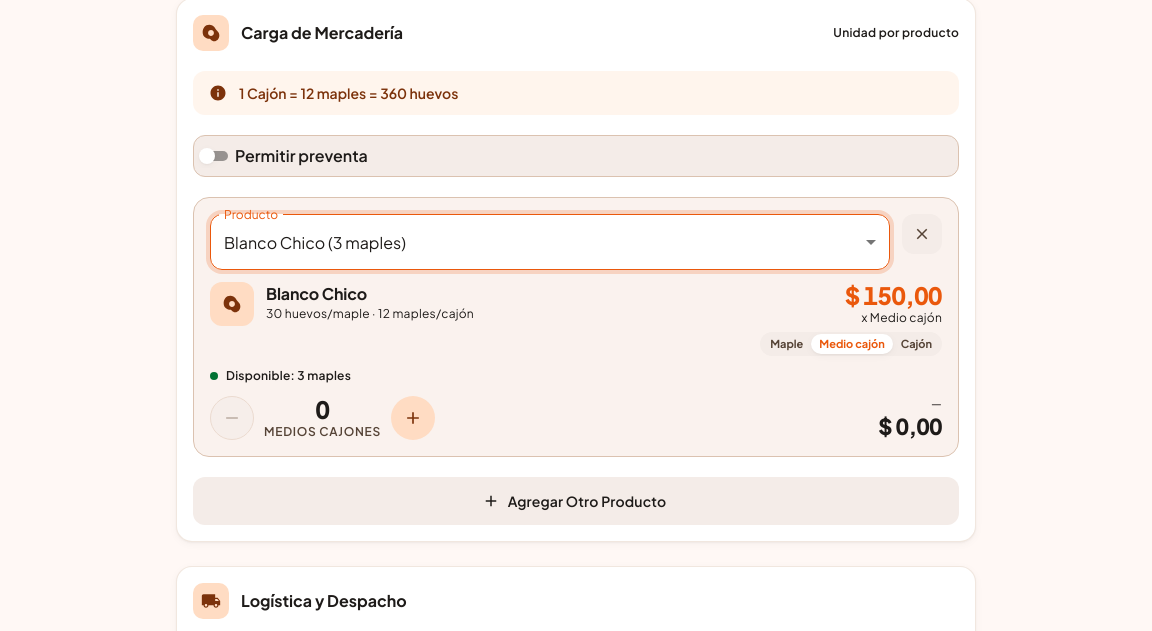
Test: NewOrderPage — medio cajón unit › requires 6 maples of stock and blocks when the warehouse has less
The width and height of the screenshot is (1152, 631).
Earlier steps of the test are not shown.
(page scrolled)
Expected: the text "Disponible: 3 maples" is shown, top-left (226, 368), bottom-right (351, 384)
Click the button named "Aumentar cantidad": [413, 418] box top-left (391, 396), bottom-right (435, 440)
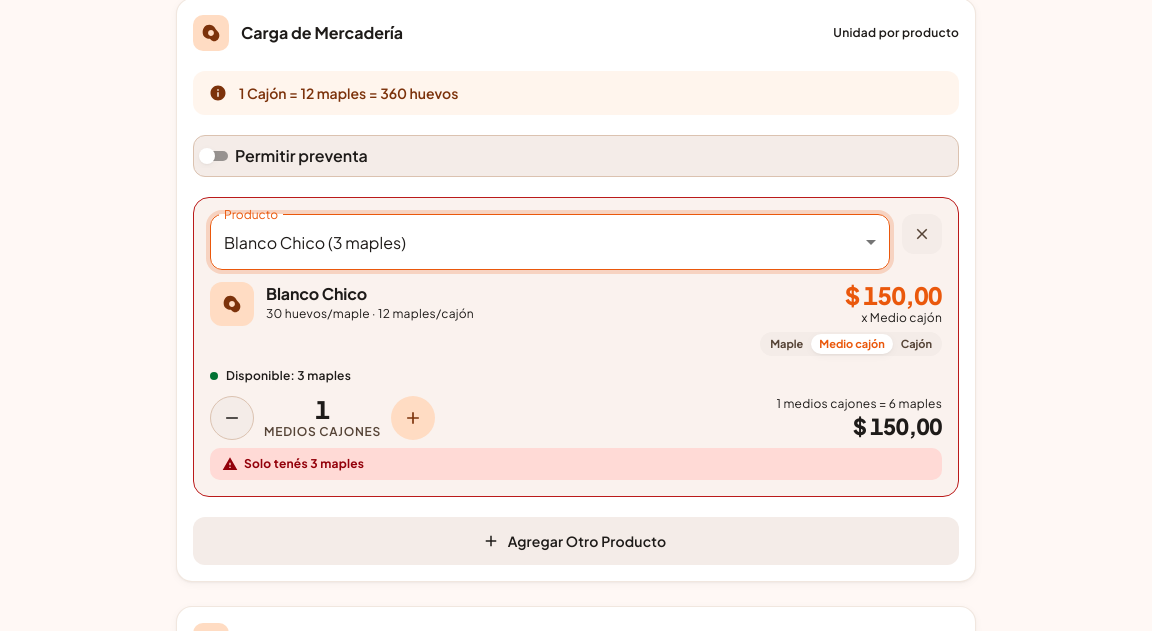
Expected: the text "Solo tenés 3 maples" is shown, top-left (244, 456), bottom-right (364, 472)
